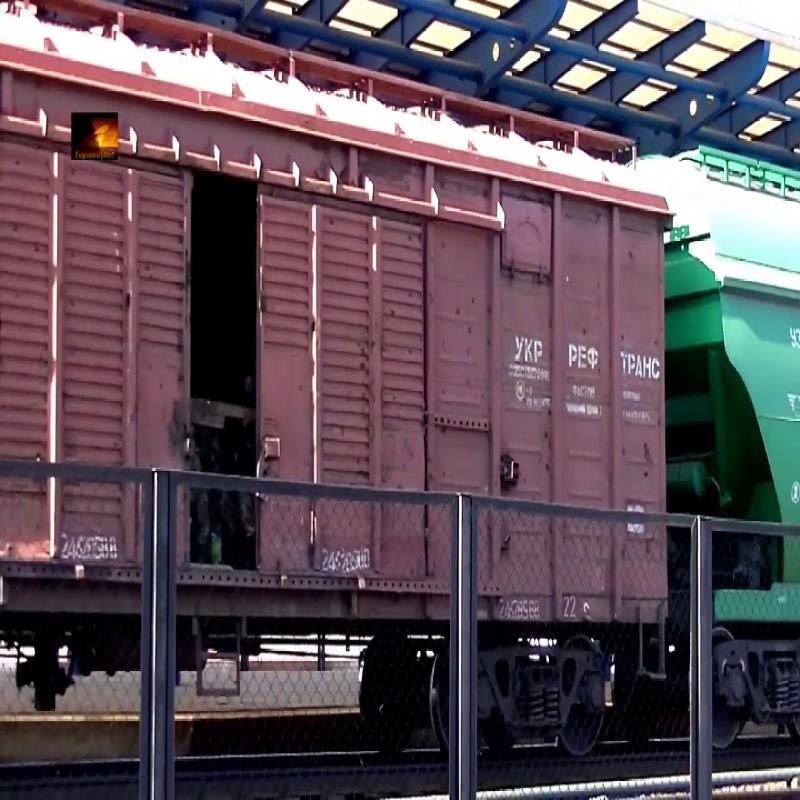train: (1, 5, 685, 769), (708, 1, 800, 763)
